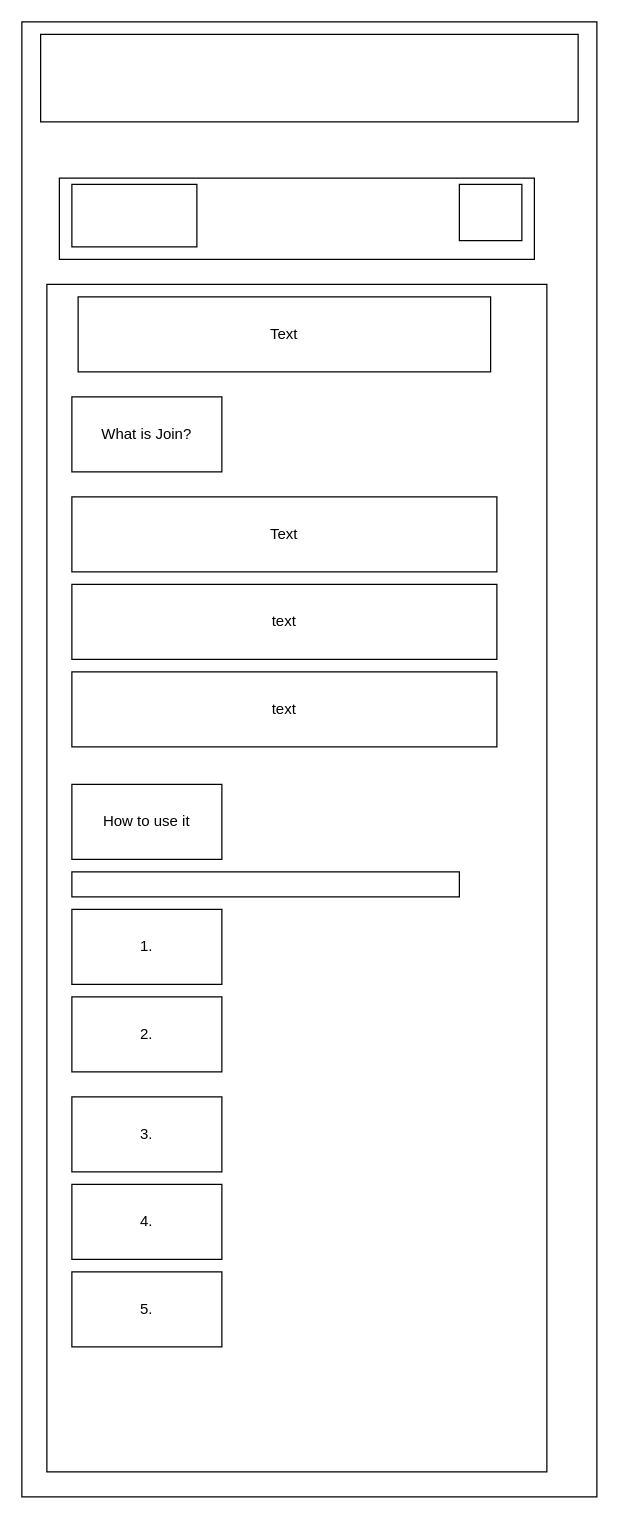
Some shapes in this 619 by 1519 pixel diagram are drawn without their labels. The shapes that lost their labels are listed below. From the top down, each one's centre as x and y in pixels, then its label:
(x=134, y=215): Help
(x=490, y=212): img
(x=265, y=884): step by step
